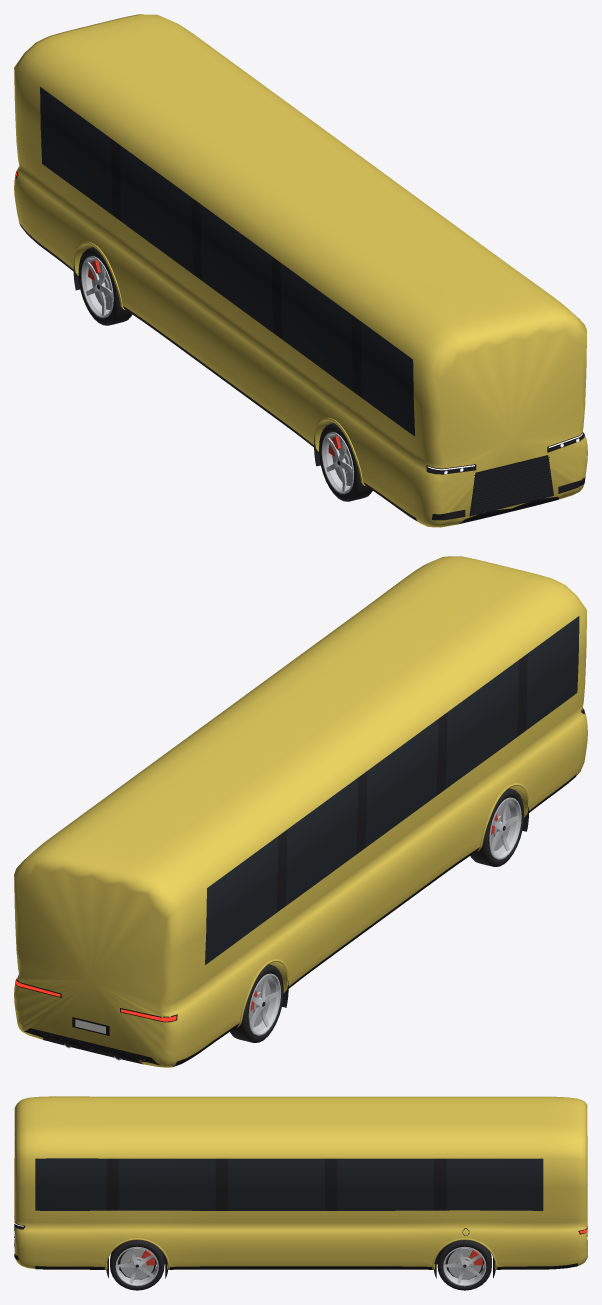
File: traffic_bus.glb
The picture shows the model from 3 angles, top to bottom: view 1: azimuth 30°, elevation 25°; view 2: azimuth 150°, elevation 25°; view 3: azimuth 270°, elevation 25°; orthographic projection. The views are drawn at different scales.
Visible parts, largest first — view 1: Body, WheelMesh_Wheel_Rear_R, WheelMesh_Wheel_Front_R; view 2: Body, WheelMesh_Wheel_Rear_R, WheelMesh_Wheel_Front_R; view 3: Body, WheelMesh_Wheel_Front_L, WheelMesh_Wheel_Rear_L.
Boxes of the visible parts, x1,y1,x2,y2 form: Body: (14, 14, 587, 527); WheelMesh_Wheel_Rear_R: (78, 247, 132, 325); WheelMesh_Wheel_Front_R: (319, 423, 372, 501); Body: (14, 556, 587, 1067); WheelMesh_Wheel_Rear_R: (230, 964, 283, 1042); WheelMesh_Wheel_Front_R: (470, 788, 524, 866); Body: (14, 1096, 587, 1278); WheelMesh_Wheel_Front_L: (110, 1240, 164, 1290); WheelMesh_Wheel_Rear_L: (437, 1240, 491, 1290).
Size of the model in its own units: 2.51 by 3.02 by 10.51.
